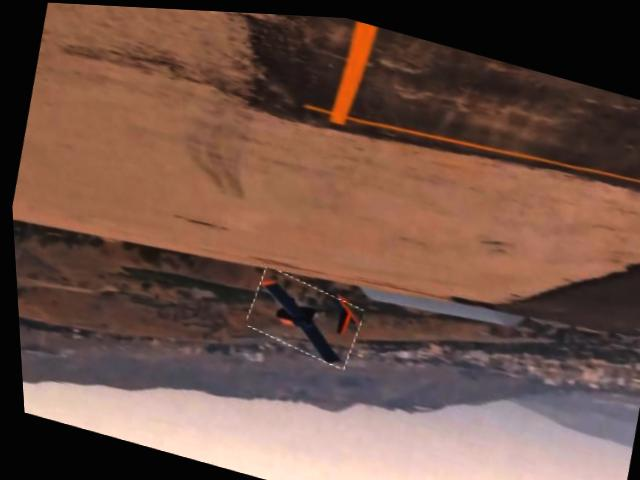insansiz-hava-araci: (238, 263, 364, 364)
